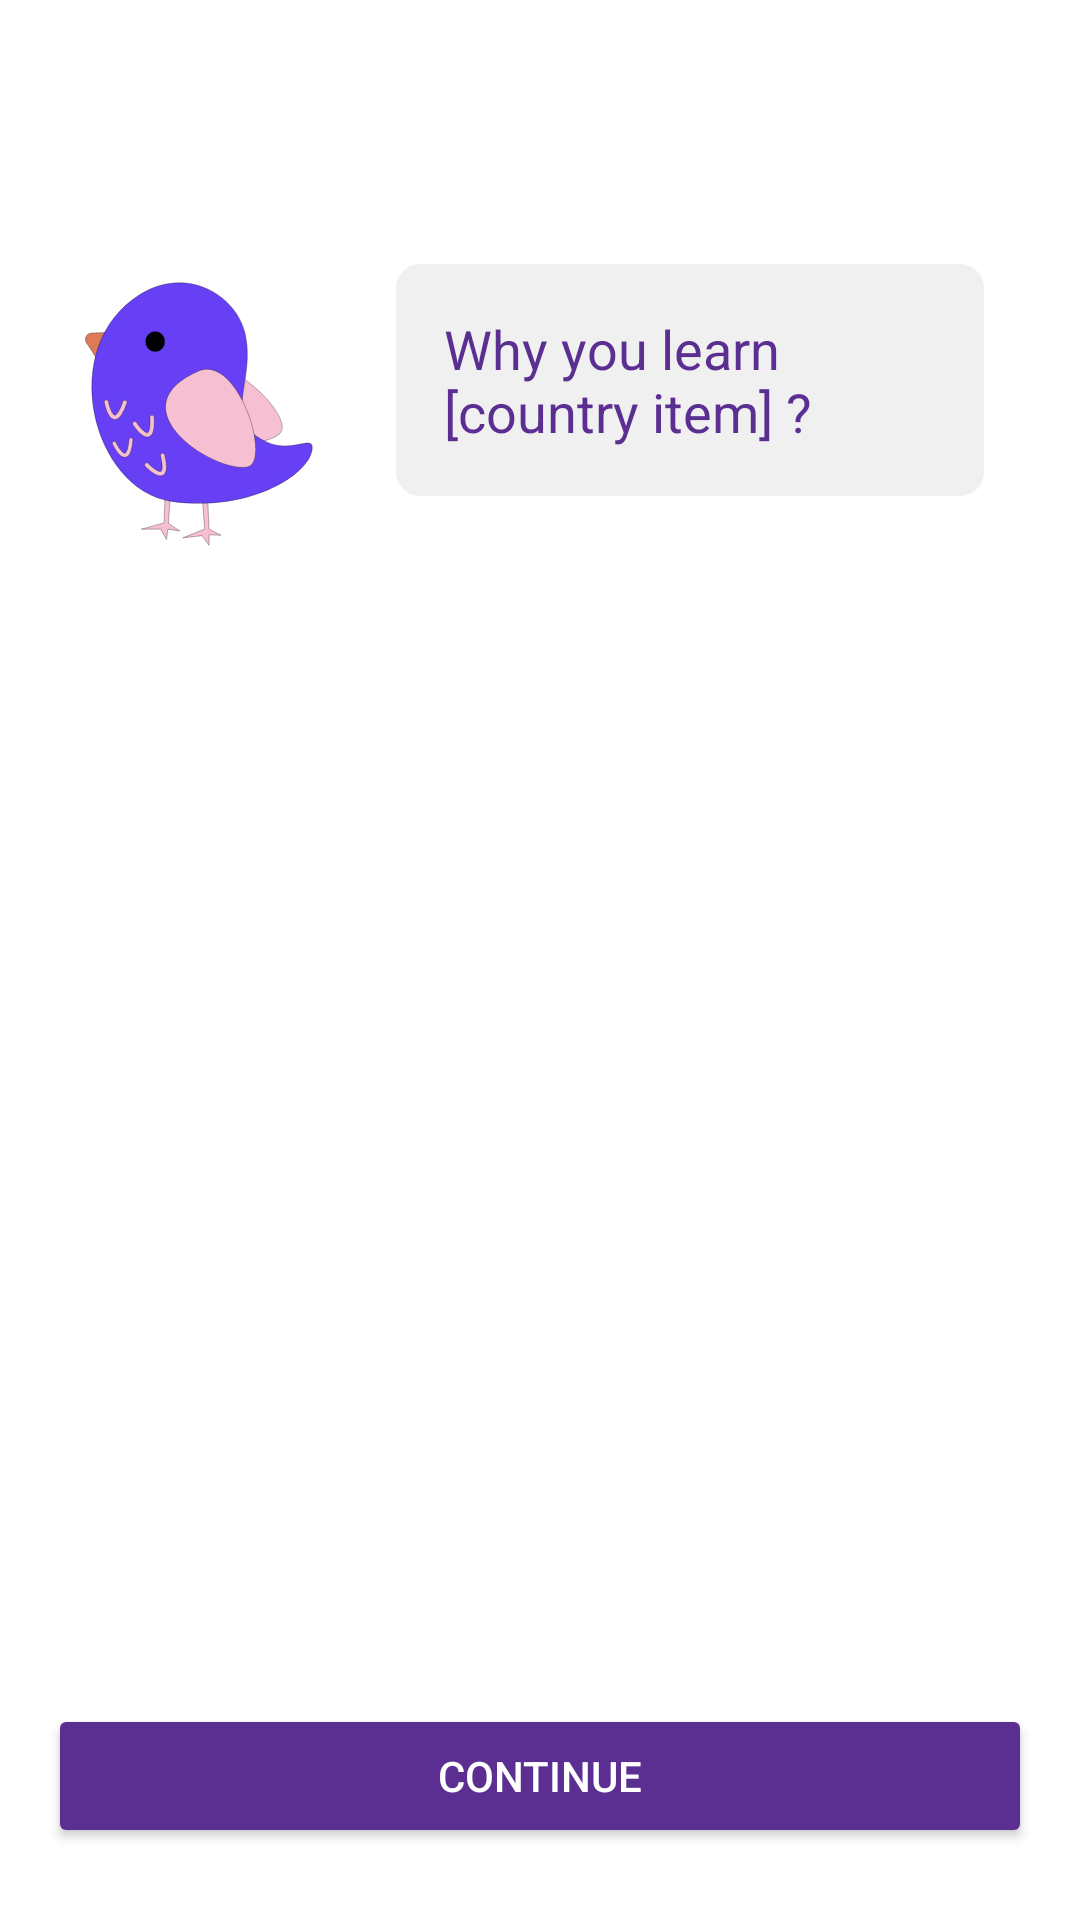

Where icons sit on this 1080px×1920px app screen, as (x1, y1, x2, y2):
bird: (85, 282, 313, 545)
